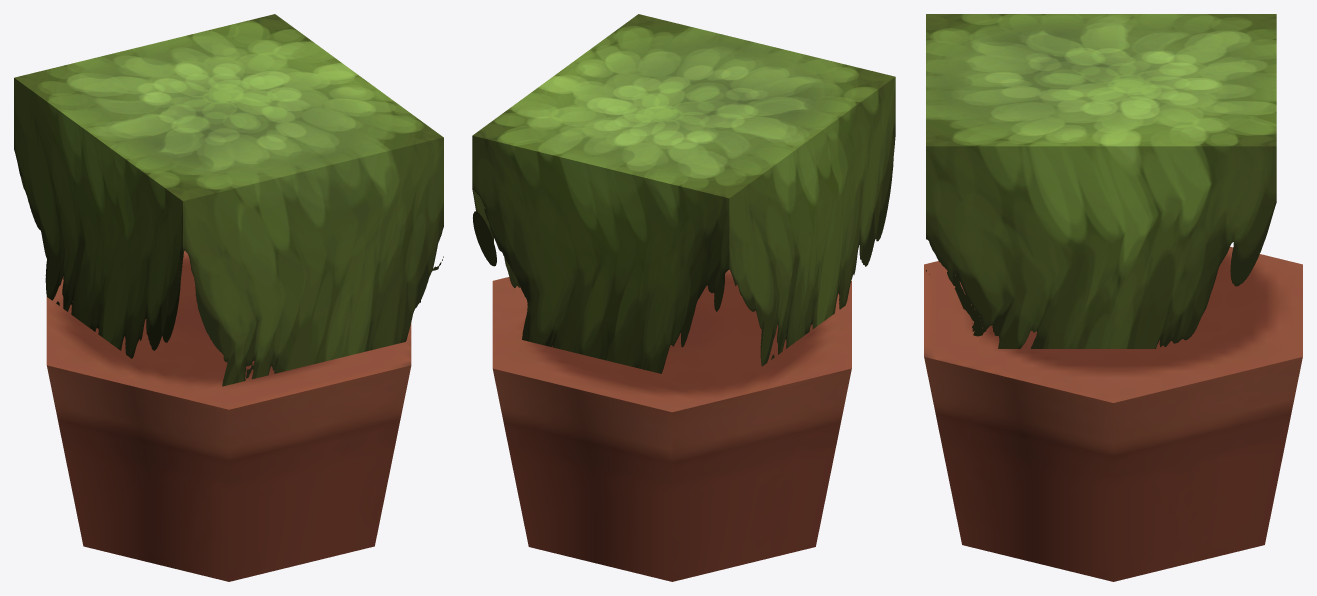
The model's file is plant-4.FBX.
The picture shows the model from 3 angles, left to right: view 1: azimuth 30°, elevation 25°; view 2: azimuth 150°, elevation 25°; view 3: azimuth 270°, elevation 25°; orthographic projection. The views are drawn at different scales.
Visible parts, largest first — view 1: plant-4; view 2: plant-4; view 3: plant-4.
Part boxes in pixels (left/top/right/bottom): plant-4: left=14, top=14, right=443, bottom=581; plant-4: left=472, top=14, right=895, bottom=581; plant-4: left=924, top=14, right=1302, bottom=581.
Bounding box in the file's own units: 240 × 257 × 208.
